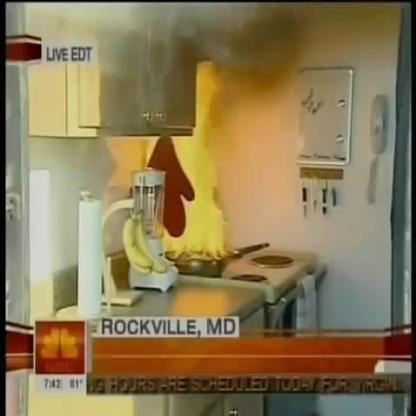fire: (166, 105, 226, 260)
